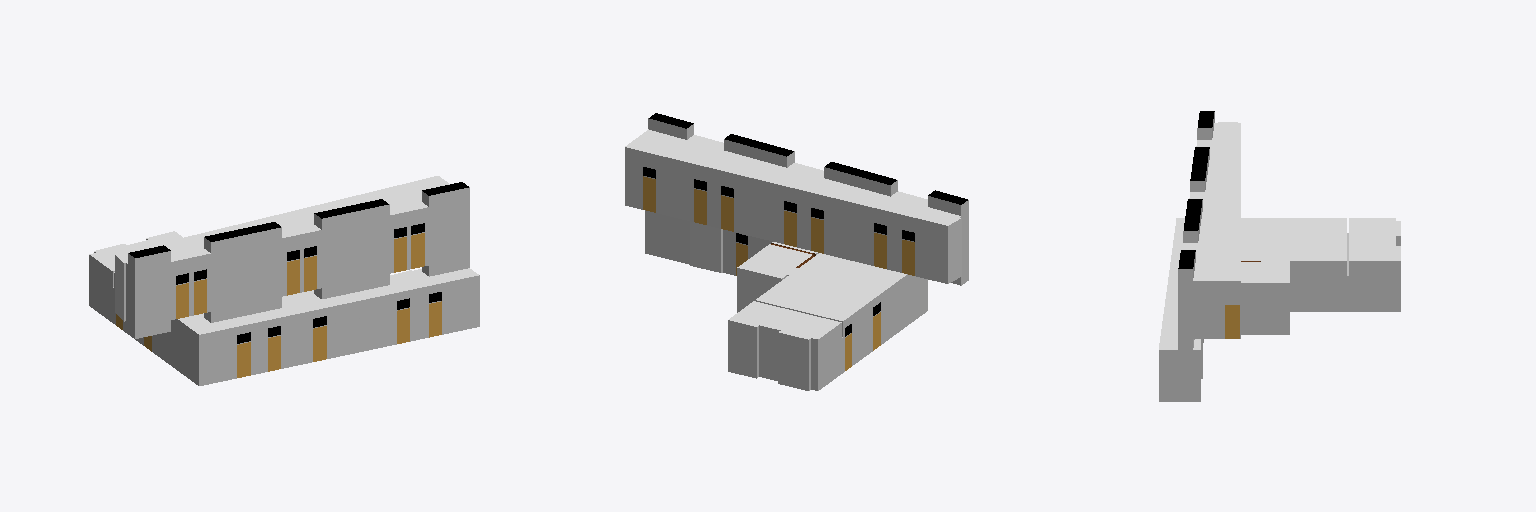
The model's file is interesting_model_for_eric.obj.
3 views of the same model, side by side, from view 1: azimuth 30°, elevation 25°; view 2: azimuth 150°, elevation 25°; view 3: azimuth 270°, elevation 25° (orthographic).
Visible parts, largest first — view 1: Mesh1 Model; view 2: Mesh1 Model; view 3: Mesh1 Model.
Boxes of the visible parts, x1=… form: Mesh1 Model: x1=89, y1=176, x2=479, y2=385; Mesh1 Model: x1=625, y1=113, x2=968, y2=390; Mesh1 Model: x1=1159, y1=111, x2=1400, y2=401.
Bounding box in the file's own units: 912 × 354 × 588.